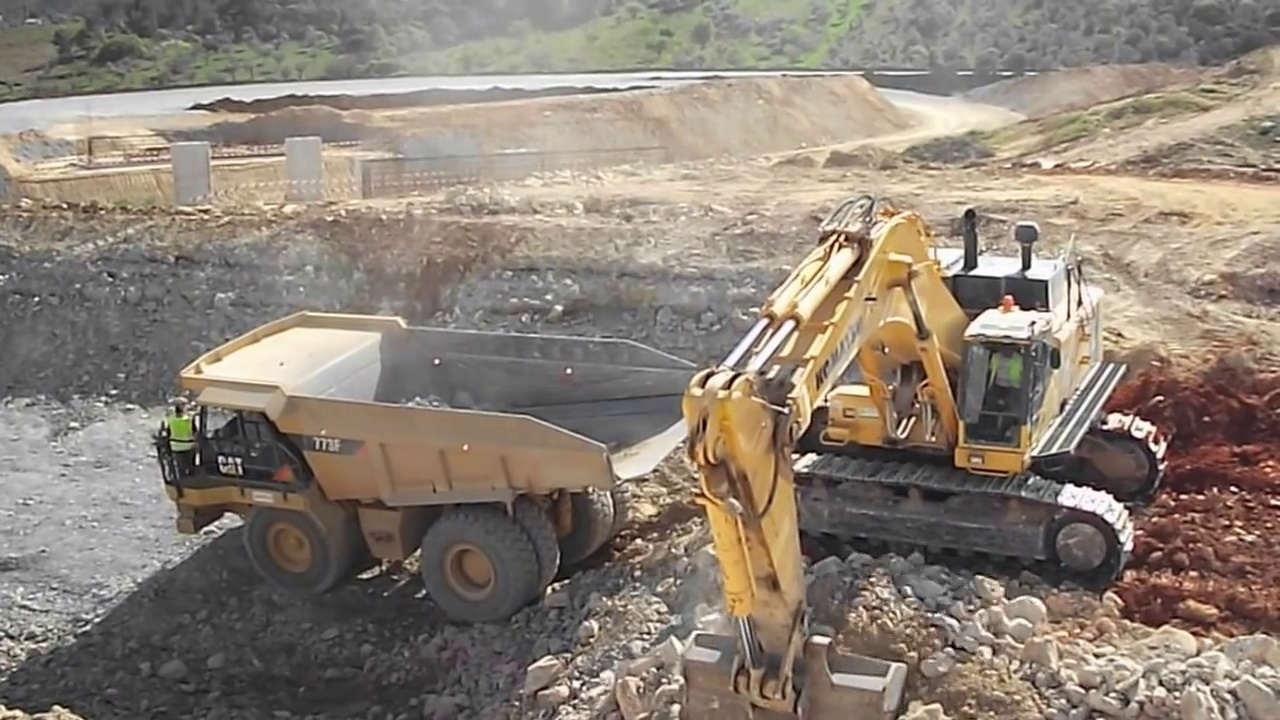dumper: (158, 311, 701, 626)
excavator: (682, 197, 1169, 717)
